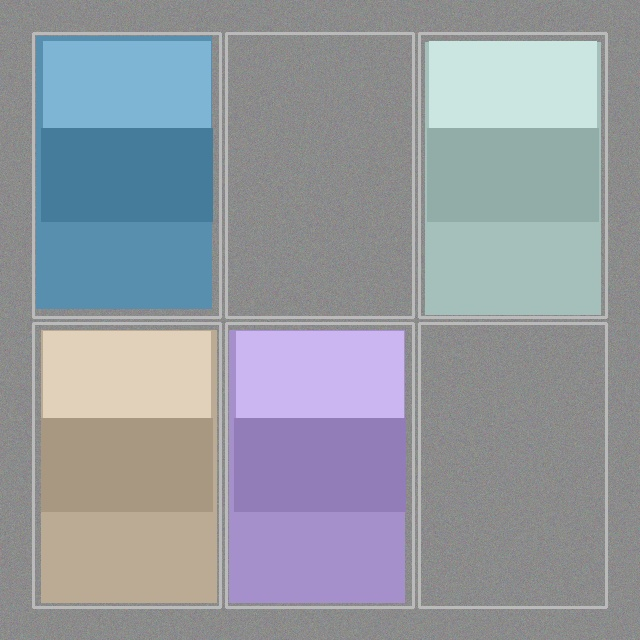space-empty: (228, 35, 411, 315), (421, 325, 604, 605)
space-occupied: (35, 35, 218, 315), (421, 35, 604, 315), (35, 325, 218, 605), (228, 325, 411, 605)
